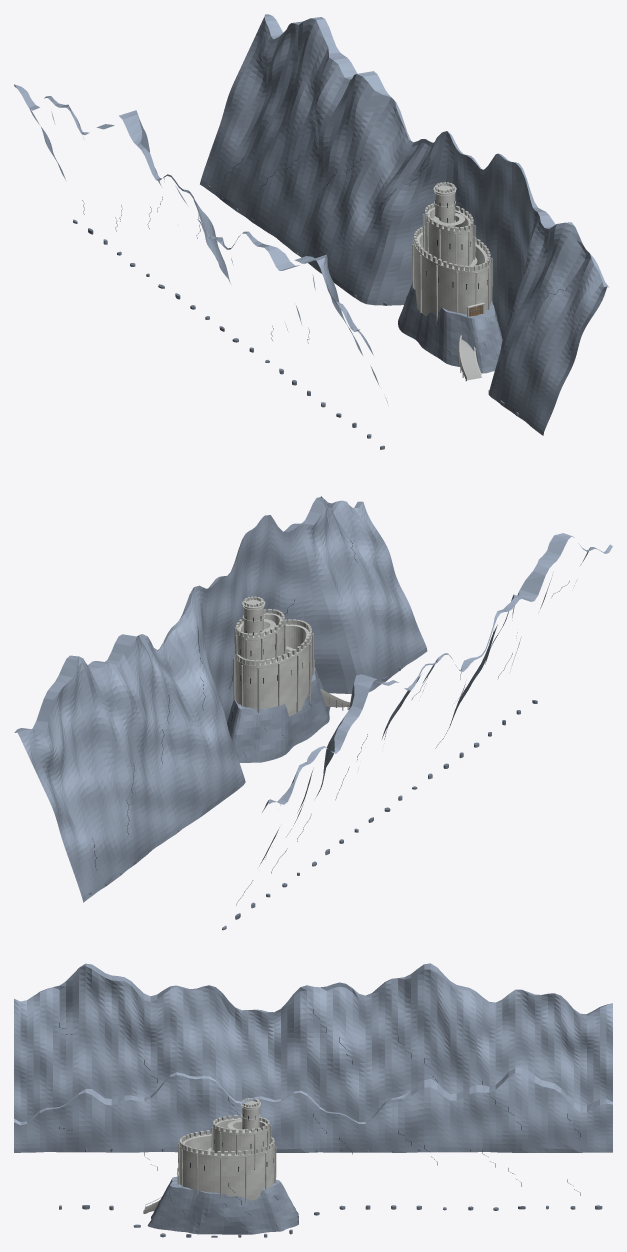
File: cuernavilla_v2.glb
3 renders of one model, top to bottom at view 1: azimuth 30°, elevation 25°; view 2: azimuth 150°, elevation 25°; view 3: azimuth 270°, elevation 25°, orthographic. The views are drawn at different scales.
Parts seen in each view (by area): view 1: acantilado_der, cuernavilla, acantilado_izq; view 2: acantilado_der, cuernavilla, acantilado_izq; view 3: acantilado_izq, cuernavilla, acantilado_der.
Part boxes in pixels (bbox=[...]): acantilado_der: bbox=[200, 14, 608, 435]; cuernavilla: bbox=[398, 182, 502, 381]; acantilado_izq: bbox=[14, 84, 387, 449]; acantilado_der: bbox=[14, 496, 427, 902]; cuernavilla: bbox=[227, 596, 350, 762]; acantilado_izq: bbox=[222, 533, 612, 930]; acantilado_izq: bbox=[14, 963, 612, 1152]; cuernavilla: bbox=[143, 1098, 298, 1234]; acantilado_der: bbox=[14, 1067, 612, 1237].
Size of the model in its own units: 72 by 51.72 by 168.
